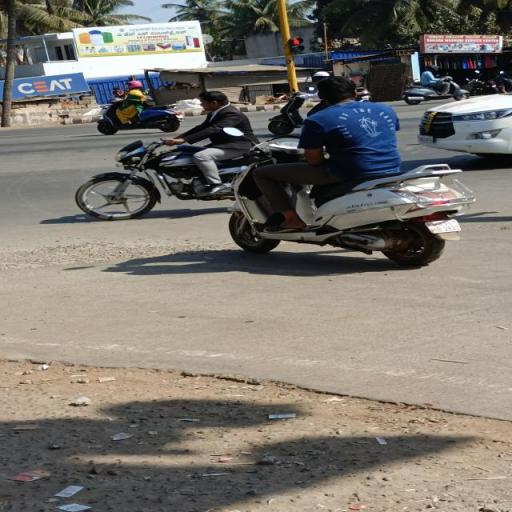bike: (206, 70, 474, 266)
withouthelmet: (318, 78, 356, 103)
